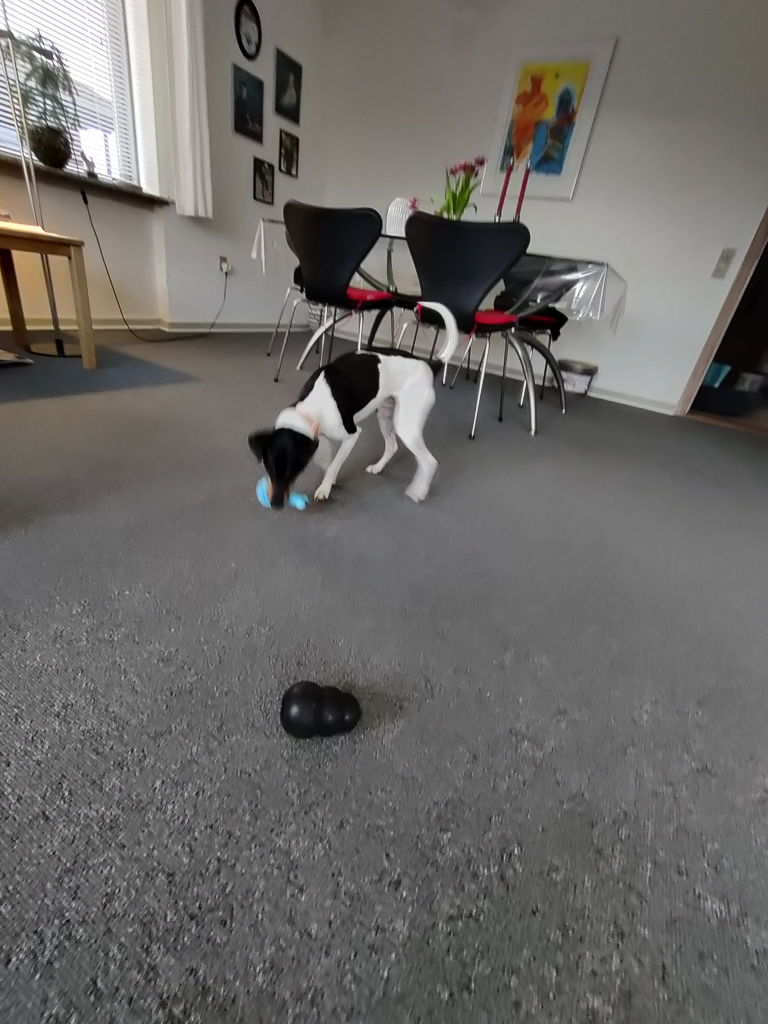Dog: (231, 292, 469, 517)
